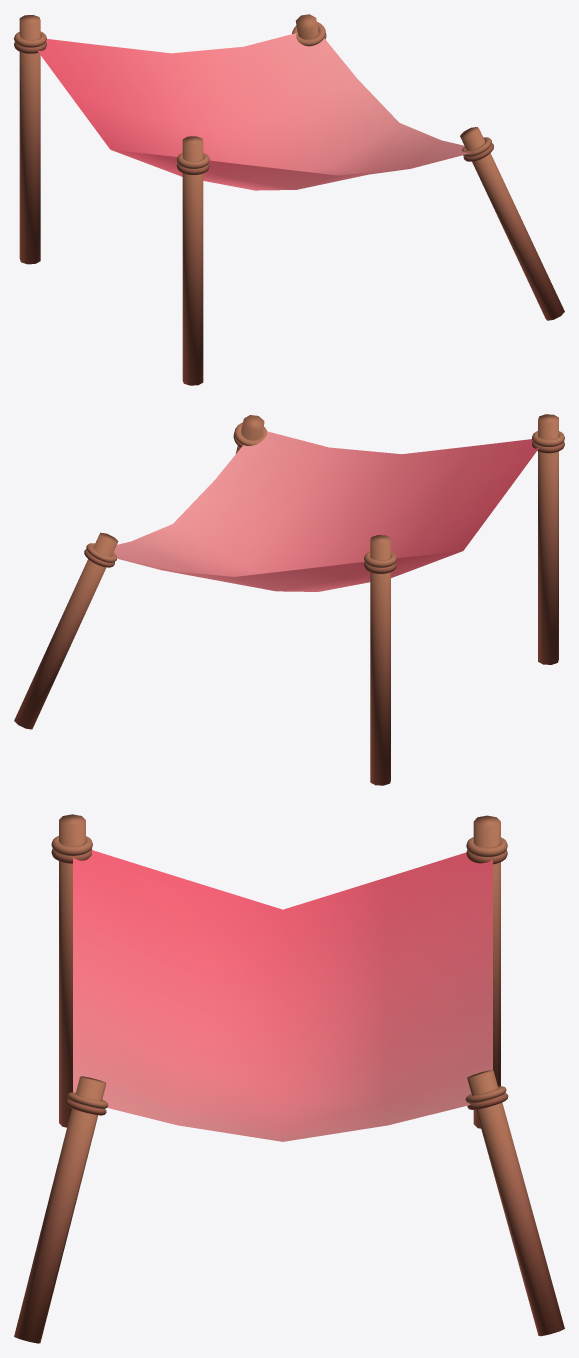
The model's file is Parasol11.fbx.
3 renders of one model, top to bottom at view 1: azimuth 30°, elevation 25°; view 2: azimuth 150°, elevation 25°; view 3: azimuth 270°, elevation 25°, orthographic. The views are drawn at different scales.
Visible parts, largest first — view 1: Parasol11; view 2: Parasol11; view 3: Parasol11.
Boxes of the visible parts, x1,y1,x2,y2 form: Parasol11: (14, 14, 564, 385); Parasol11: (14, 414, 564, 785); Parasol11: (14, 814, 564, 1343).
Size of the model in its own units: 1.47 by 0.9559 by 1.52.
1 material, 1 textured.
